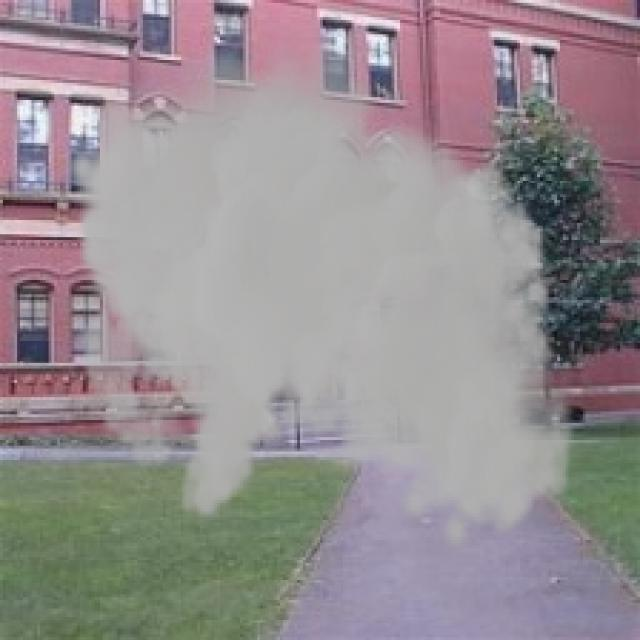smoke: (63, 26, 577, 554)
